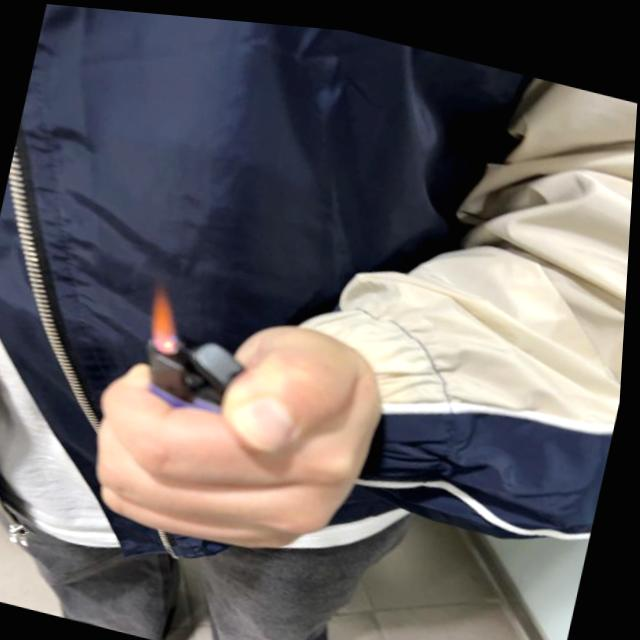helmet: (144, 276, 198, 353)
